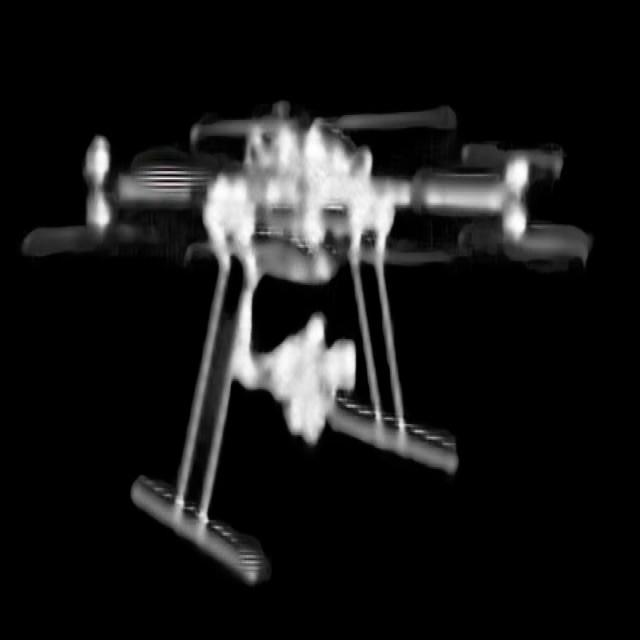drone: (11, 90, 592, 596)
